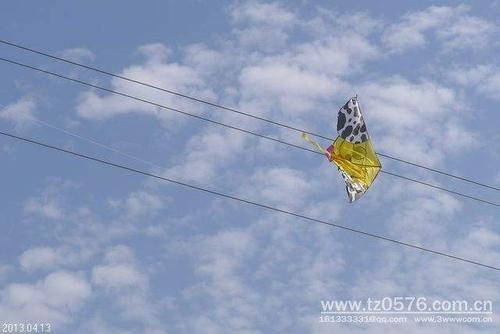kite: (302, 90, 389, 204)
